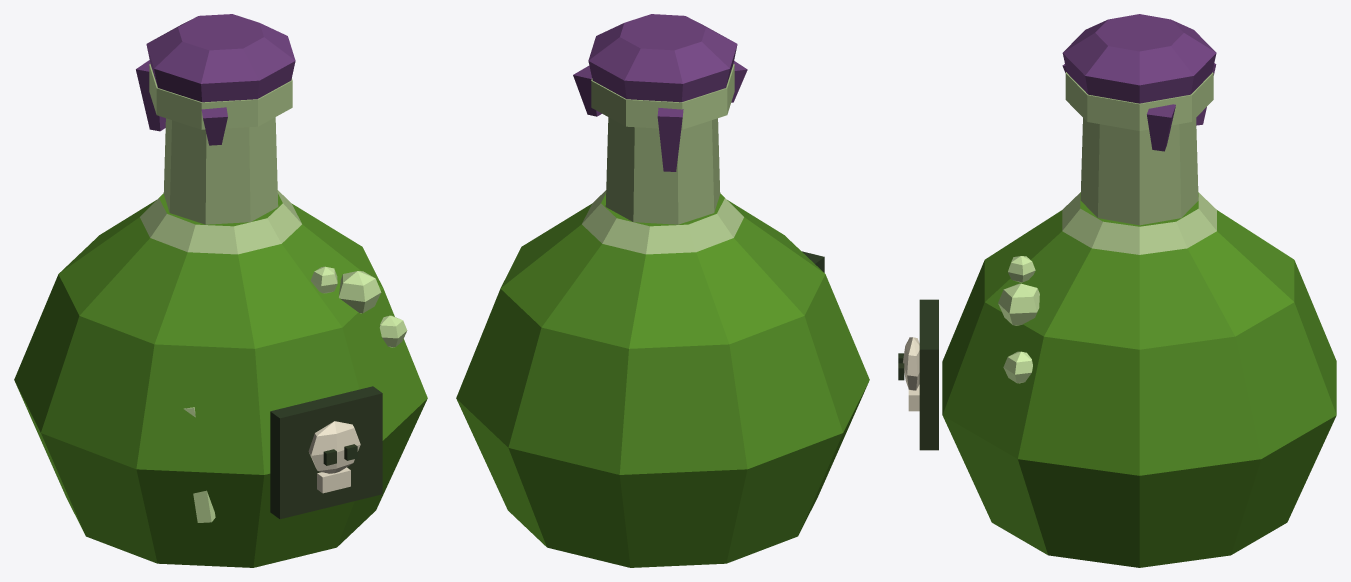
The model's file is item_flask_toxic.glb.
3 views of the same model, side by side, from view 1: azimuth 30°, elevation 25°; view 2: azimuth 150°, elevation 25°; view 3: azimuth 270°, elevation 25° (orthographic).
Visible parts, largest first — view 1: item_flask_toxic; view 2: item_flask_toxic; view 3: item_flask_toxic.
Part boxes in pixels (x1,y1,x2,y2): item_flask_toxic: (14, 14, 427, 567); item_flask_toxic: (456, 14, 869, 567); item_flask_toxic: (898, 14, 1336, 567).
Size of the model in its own units: 0.28 by 0.375 by 0.2962.
